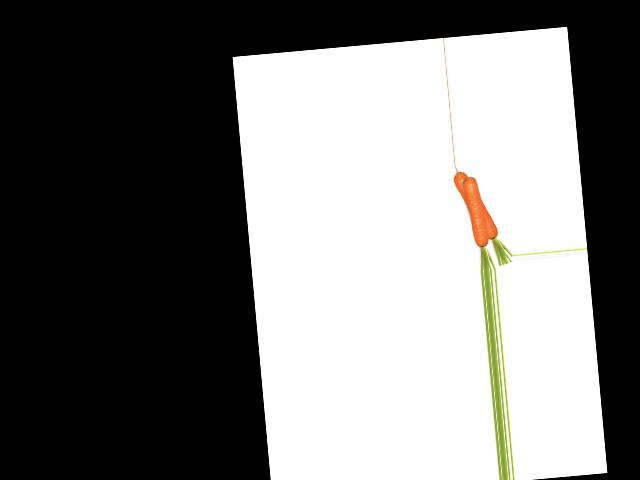carrot: (454, 163, 499, 248)
